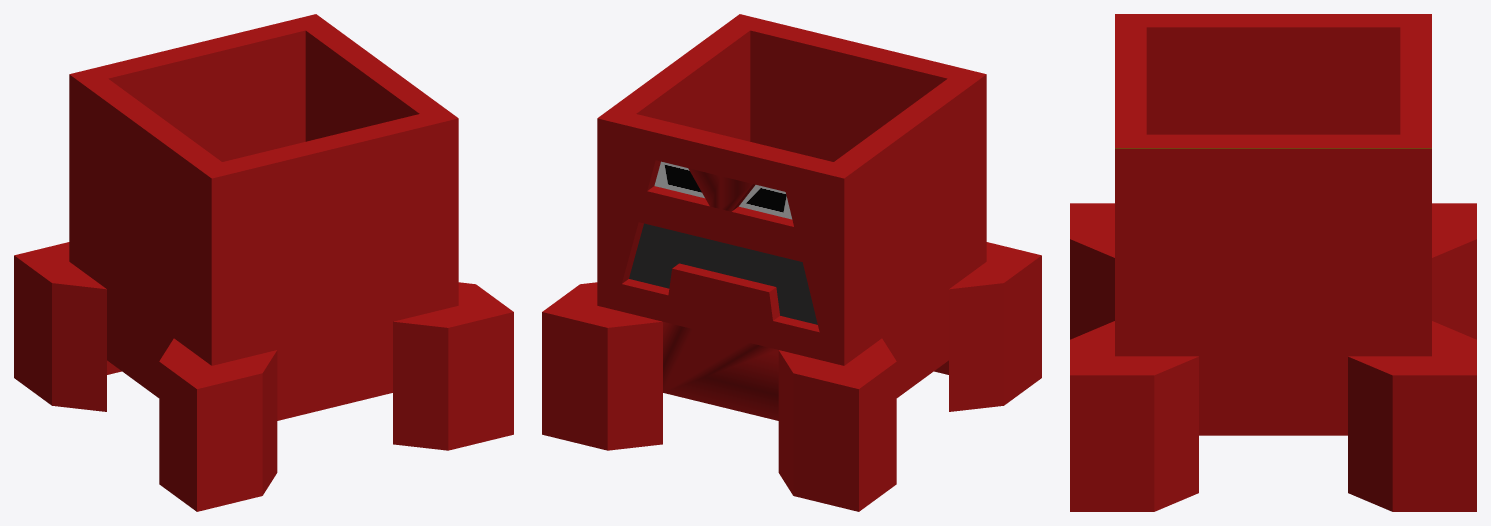
Rendered from firstboss 1.FBX.
The picture shows the model from 3 angles, left to right: view 1: azimuth 30°, elevation 25°; view 2: azimuth 150°, elevation 25°; view 3: azimuth 270°, elevation 25°; orthographic projection. The views are drawn at different scales.
Visible parts, largest first — view 1: Box001; view 2: Box001; view 3: Box001.
Part boxes in pixels (box(x1,y1,x2,y2)): Box001: box(14, 14, 513, 511); Box001: box(542, 14, 1041, 511); Box001: box(1070, 14, 1476, 511).
Bounding box in the file's own units: 50.51 × 47.24 × 50.51.
1 material, 1 textured.
